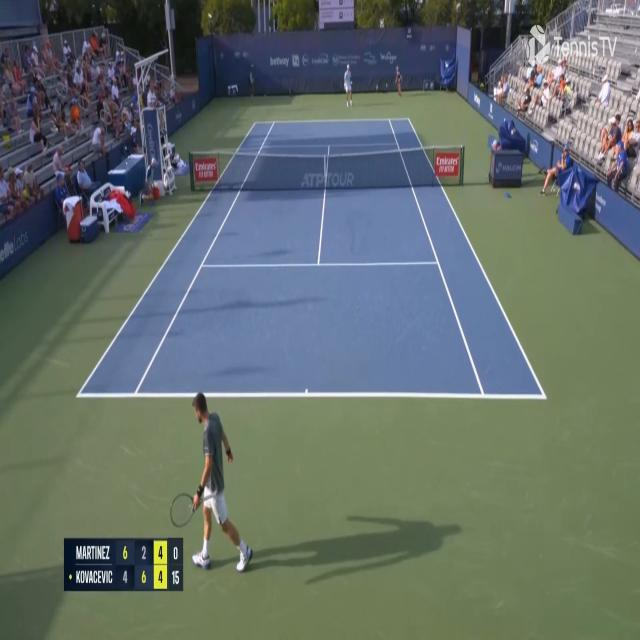tennis-player: (169, 383, 256, 576), (343, 62, 354, 107)
